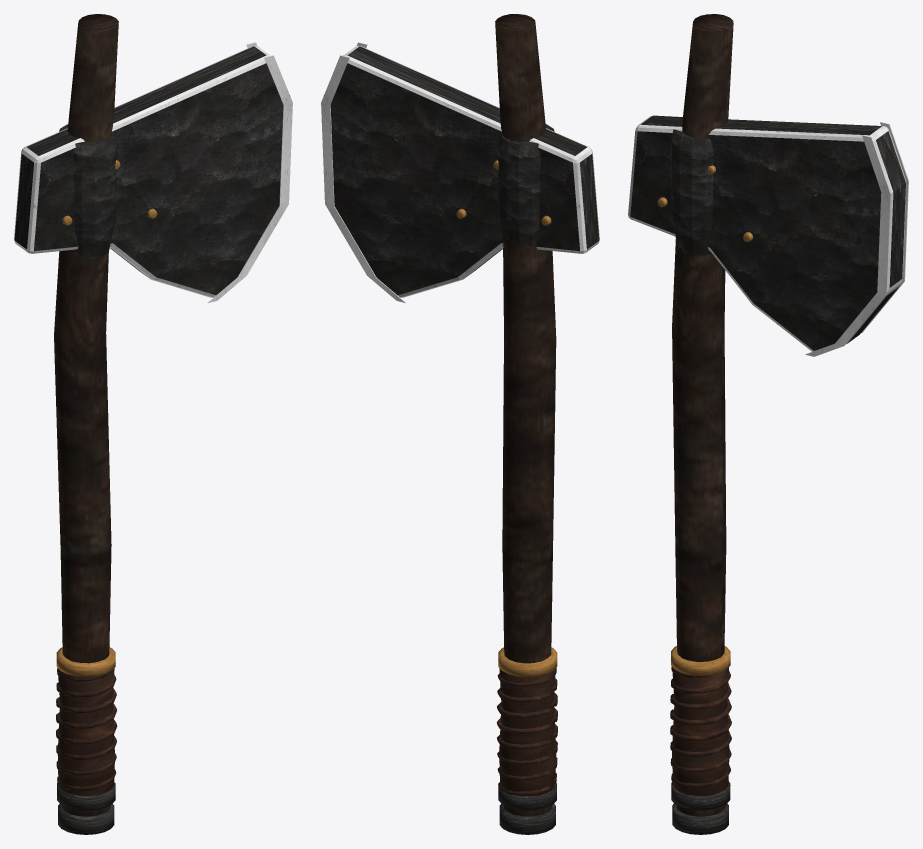
The model's file is sable_bearded_axe.glb.
3 views of the same model, side by side, from view 1: azimuth 30°, elevation 25°; view 2: azimuth 150°, elevation 25°; view 3: azimuth 330°, elevation 25° (orthographic).
Parts seen in each view (by area): view 1: Shaped bearded axe head.001, Straight palm shaft and tapered ironwood.001, Bound palm grip.007, Swaged head socket.001, Continuous bound leather seam.007, Honed cutting cheek.002, Socketed pommel ferrule.001, Grip forward ferrule.007, Grip rear ferrule.007; view 2: Shaped bearded axe head.001, Straight palm shaft and tapered ironwood.001, Bound palm grip.007, Swaged head socket.001, Continuous bound leather seam.007, Honed cutting cheek.003, Socketed pommel ferrule.001, Grip forward ferrule.007, Grip rear ferrule.007; view 3: Shaped bearded axe head.001, Straight palm shaft and tapered ironwood.001, Bound palm grip.007, Swaged head socket.001, Continuous bound leather seam.007, Honed cutting cheek.002, Socketed pommel ferrule.001, Grip forward ferrule.007, Grip rear ferrule.007, Honed cutting cheek.003.
Boxes of the visible parts, left/top/right/bottom form: Shaped bearded axe head.001: left=14, top=45, right=283, bottom=297; Straight palm shaft and tapered ironwood.001: left=54, top=14, right=118, bottom=816; Bound palm grip.007: left=57, top=668, right=114, bottom=796; Swaged head socket.001: left=59, top=124, right=116, bottom=259; Continuous bound leather seam.007: left=56, top=668, right=117, bottom=790; Honed cutting cheek.002: left=207, top=55, right=292, bottom=302; Socketed pommel ferrule.001: left=58, top=803, right=114, bottom=834; Grip forward ferrule.007: left=56, top=647, right=115, bottom=676; Grip rear ferrule.007: left=57, top=782, right=115, bottom=810; Shaped bearded axe head.001: left=330, top=45, right=599, bottom=297; Straight palm shaft and tapered ironwood.001: left=495, top=14, right=556, bottom=816; Bound palm grip.007: left=499, top=668, right=556, bottom=796; Swaged head socket.001: left=497, top=124, right=554, bottom=246; Continuous bound leather seam.007: left=496, top=668, right=557, bottom=796; Honed cutting cheek.003: left=321, top=55, right=406, bottom=302; Socketed pommel ferrule.001: left=499, top=803, right=555, bottom=834; Grip forward ferrule.007: left=498, top=647, right=557, bottom=676; Grip rear ferrule.007: left=498, top=782, right=556, bottom=810; Shaped bearded axe head.001: left=628, top=115, right=906, bottom=351; Straight palm shaft and tapered ironwood.001: left=672, top=14, right=733, bottom=816; Bound palm grip.007: left=672, top=667, right=729, bottom=796; Swaged head socket.001: left=670, top=129, right=713, bottom=255; Continuous bound leather seam.007: left=670, top=666, right=731, bottom=790; Honed cutting cheek.002: left=805, top=135, right=890, bottom=356; Socketed pommel ferrule.001: left=672, top=803, right=728, bottom=834; Grip forward ferrule.007: left=671, top=646, right=730, bottom=675; Grip rear ferrule.007: left=671, top=782, right=730, bottom=810; Honed cutting cheek.003: left=861, top=122, right=908, bottom=333.
Size of the model in its own units: 0.3994 by 1.16 by 0.0812.
5 materials, 5 textured.
